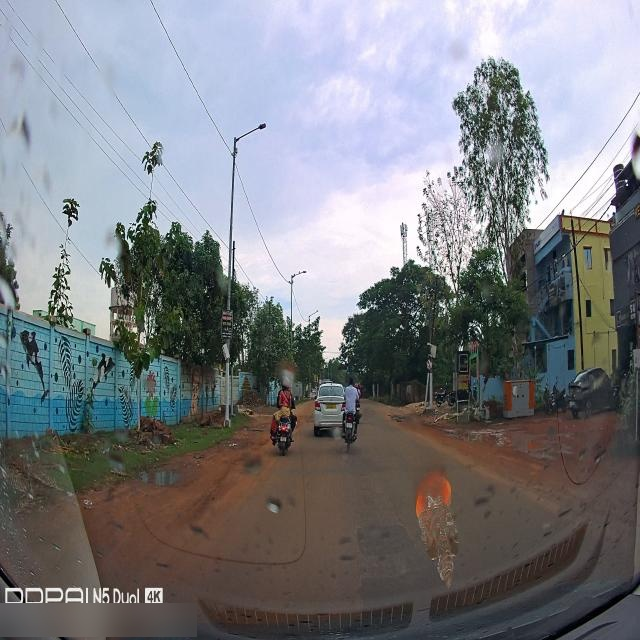pothole: (514, 438, 570, 458), (460, 429, 506, 452), (136, 466, 182, 486)
